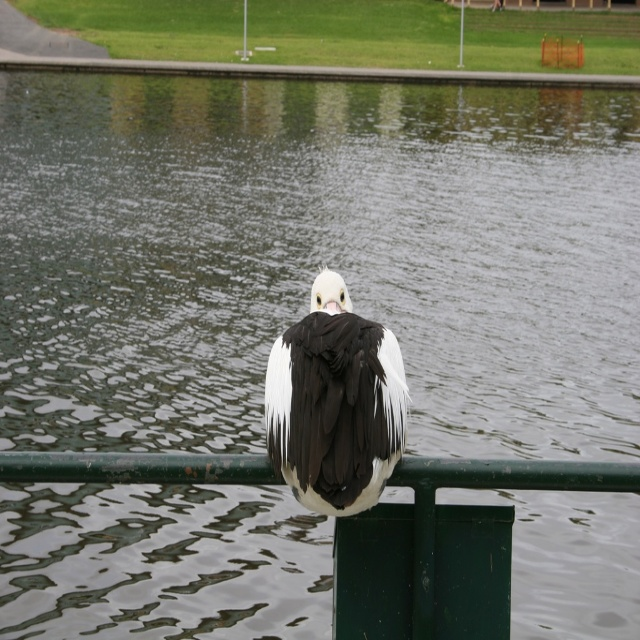Duck: (262, 265, 412, 516)
